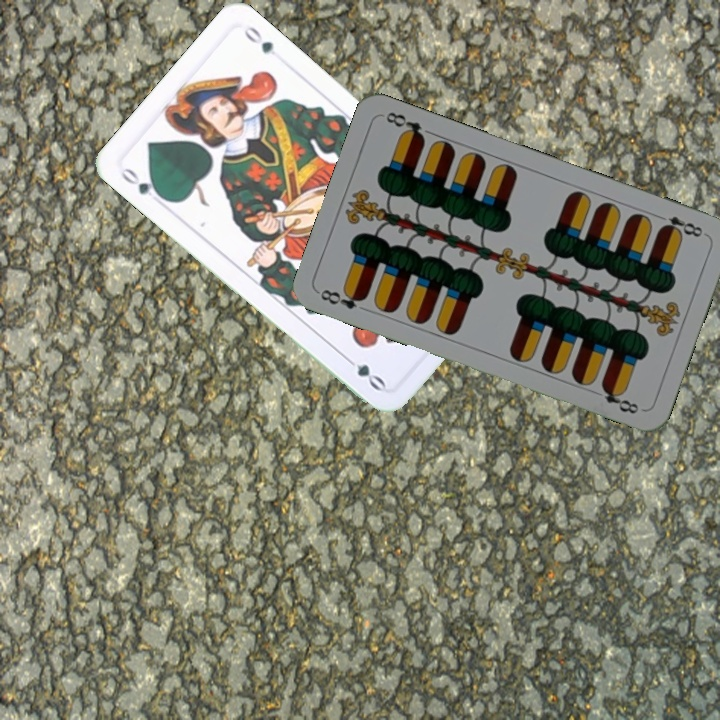E8: (652, 210, 706, 240), (316, 285, 369, 312)
GO: (116, 162, 168, 203)
